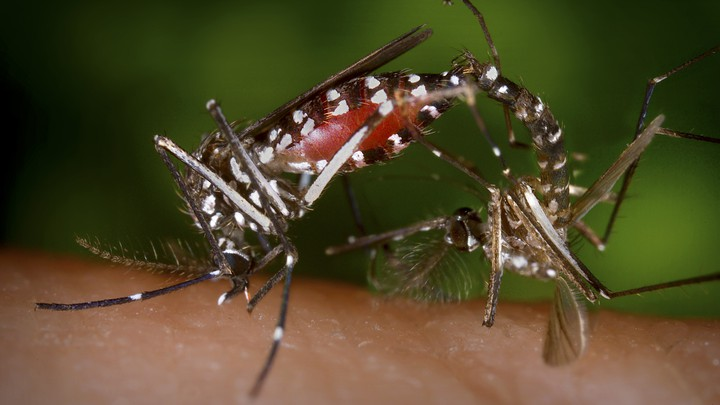dengue_mosquito: (40, 25, 688, 370)
